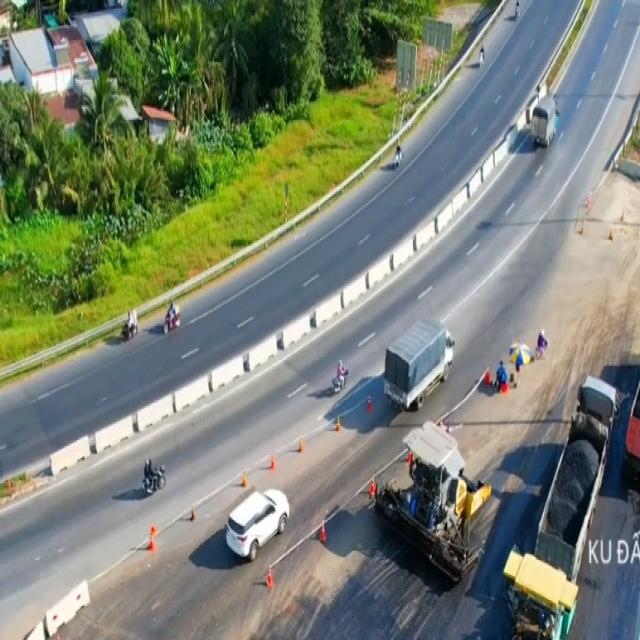car: (227, 488, 291, 564)
motorbike: (142, 458, 165, 495), (163, 298, 180, 334), (121, 309, 137, 343), (334, 359, 346, 395), (392, 145, 402, 170)
truck: (386, 322, 456, 417), (529, 94, 559, 148)
